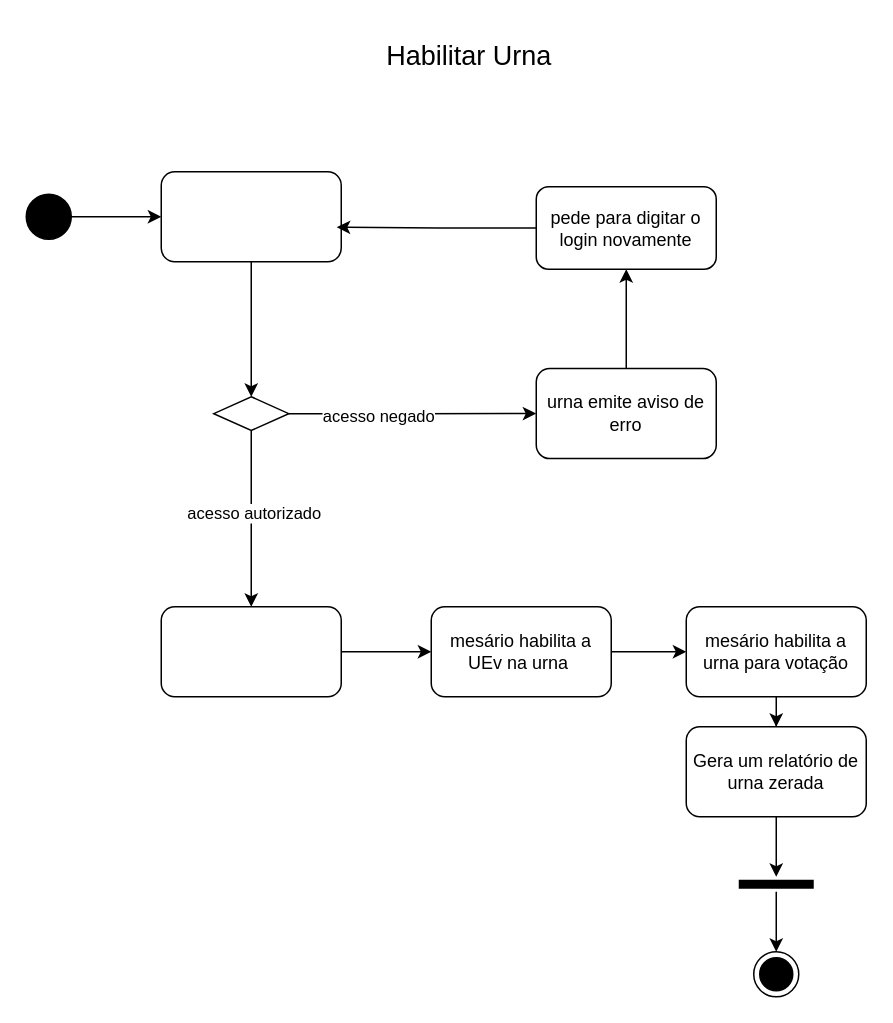
Some shapes in this 893 by 1023 pixel diagram are drawn without their labels. Here are the shapes that lost their labels. From the top down, the centre of each, then its label:
[250,216]: mesário digita login de acesso no sistema
[250,651]: UEv recebe as informações da Ueg
